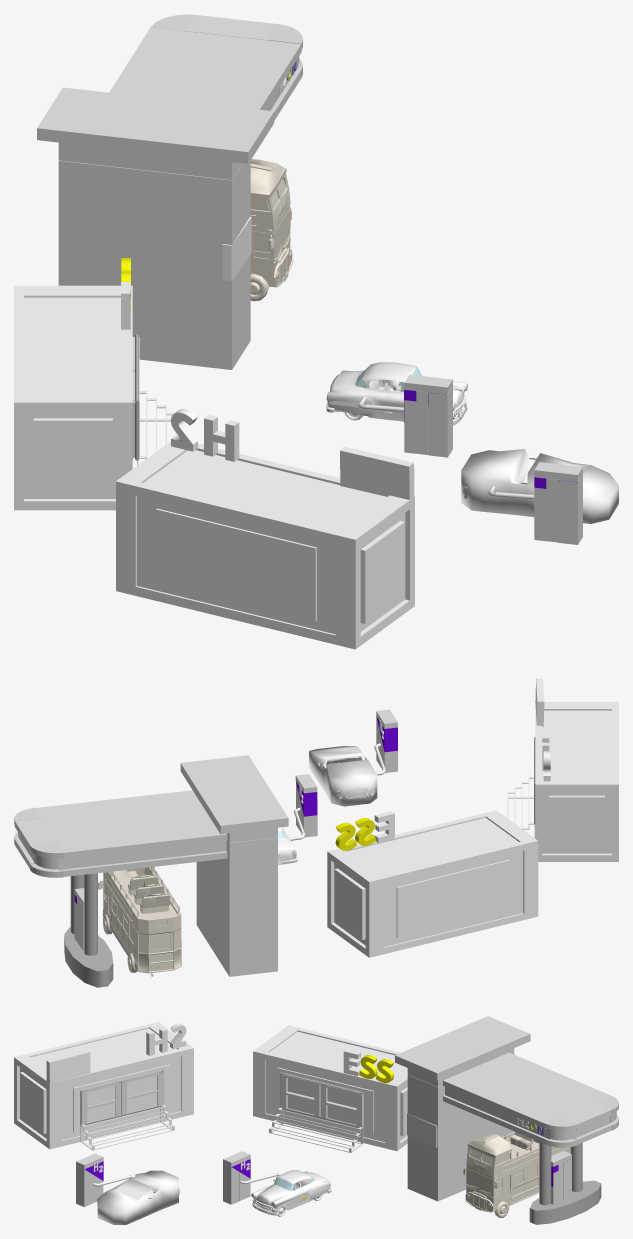
Rendered from hydrogen refueling station.fbx.
3 renders of one model, top to bottom at view 1: azimuth 30°, elevation 25°; view 2: azimuth 150°, elevation 25°; view 3: azimuth 270°, elevation 25°, orthographic. The views are drawn at different scales.
Parts seen in each view (by area): view 1: CT_SA_Cube_A_04_1, CT_SA_Cube_A_04_1_1, CT_Boxes_Base_01_base_22, CT_Boxes_Base_01_base_21, CT_Boxes_Base_01_base_23, CT_Boxes_Base_01_base_15, CT_SA_Cube_A_W_Keep, SA_Convertible_001_Colider, CB_Car_004_1, SA_Bus_001, CT_Boxes_Base_01_base_24, CT_Fr_BDisplay_01_1 (+7 smaller); view 2: CT_SA_Cube_A_04_1_1, CT_SA_Cube_A_04_1, CT_Boxes_Base_01_base_15, CT_Boxes_Base_01_base_22, SA_Bus_001, CT_Boxes_Base_01_base_21, CT_SA_Cube_A_W_Keep_1, SA_Convertible_001_Colider, CT_Boxes_Base_01_base_23, CT_Boxes_Base_01_base_18, CT_Boxes_BaseCoulmn_01_base, CT_SA_Cube_A_W_Keep (+11 smaller); view 3: CT_SA_Cube_A_04_1, CT_SA_Cube_A_04_1_1, CT_Boxes_Base_01_base_15, CT_Boxes_Base_01_base_22, CT_Boxes_Base_01_base_21, SA_Bus_001, SA_Convertible_001_Colider, CT_SA_Cube_A_W_Keep, CT_SA_Cube_A_W_Keep_1, CB_Car_004_1, CT_Boxes_BaseCoulmn_01_base, CT_Boxes_Base_01_base (+22 smaller).
Boxes of the visible parts, x1,y1,x2,y2 form: CT_SA_Cube_A_04_1: (116,441,414,649); CT_SA_Cube_A_04_1_1: (14,285,132,510); CT_Boxes_Base_01_base_22: (58,208,250,369); CT_Boxes_Base_01_base_21: (37,87,274,163); CT_Boxes_Base_01_base_23: (58,160,250,236); CT_Boxes_Base_01_base_15: (109,27,301,110); CT_SA_Cube_A_W_Keep: (137,495,405,634); SA_Convertible_001_Colider: (461,449,618,523); CB_Car_004_1: (326,362,467,425); SA_Bus_001: (250,159,293,287); CT_Boxes_Base_01_base_24: (58,142,242,179); CT_Fr_BDisplay_01_1: (340,446,414,499); CT_SA_Cube_A_04_1_1: (327,810,538,957); CT_SA_Cube_A_04_1: (535,702,618,861); CT_Boxes_Base_01_base_15: (35,790,227,858); CT_Boxes_Base_01_base_22: (196,860,277,976); SA_Bus_001: (98,866,181,976); CT_Boxes_Base_01_base_21: (180,755,288,834); CT_SA_Cube_A_W_Keep_1: (334,851,523,947); SA_Convertible_001_Colider: (309,746,377,806); CT_Boxes_Base_01_base_23: (215,837,277,882); CT_Boxes_Base_01_base_18: (58,840,226,869); CT_Boxes_BaseCoulmn_01_base: (64,927,113,987); CT_SA_Cube_A_W_Keep: (542,791,611,853); CT_SA_Cube_A_04_1: (14,1022,193,1149); CT_SA_Cube_A_04_1_1: (253,1025,407,1150); CT_Boxes_Base_01_base_15: (443,1052,611,1128); CT_Boxes_Base_01_base_22: (407,1109,514,1201); CT_Boxes_Base_01_base_21: (395,1016,530,1080); SA_Bus_001: (463,1132,570,1212); SA_Convertible_001_Colider: (97,1170,178,1224); CT_SA_Cube_A_W_Keep: (20,1057,181,1139); CT_SA_Cube_A_W_Keep_1: (265,1060,407,1141); CB_Car_004_1: (251,1170,331,1216); CT_Boxes_BaseCoulmn_01_base: (529,1180,601,1224); CT_Boxes_Base_01_base: (285,1073,360,1127).
Bounding box in the file's own units: 1511 × 626 × 2541.
